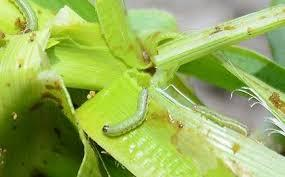fallarmy_worm: (102, 85, 154, 138)
